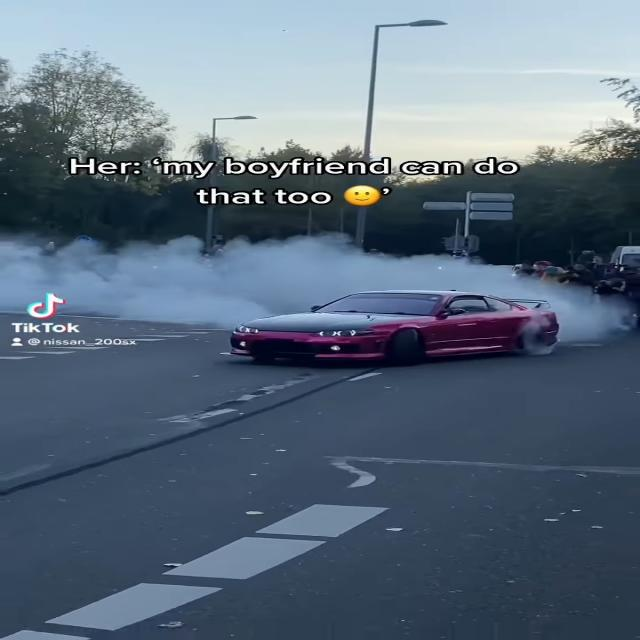car: (229, 288, 569, 367)
